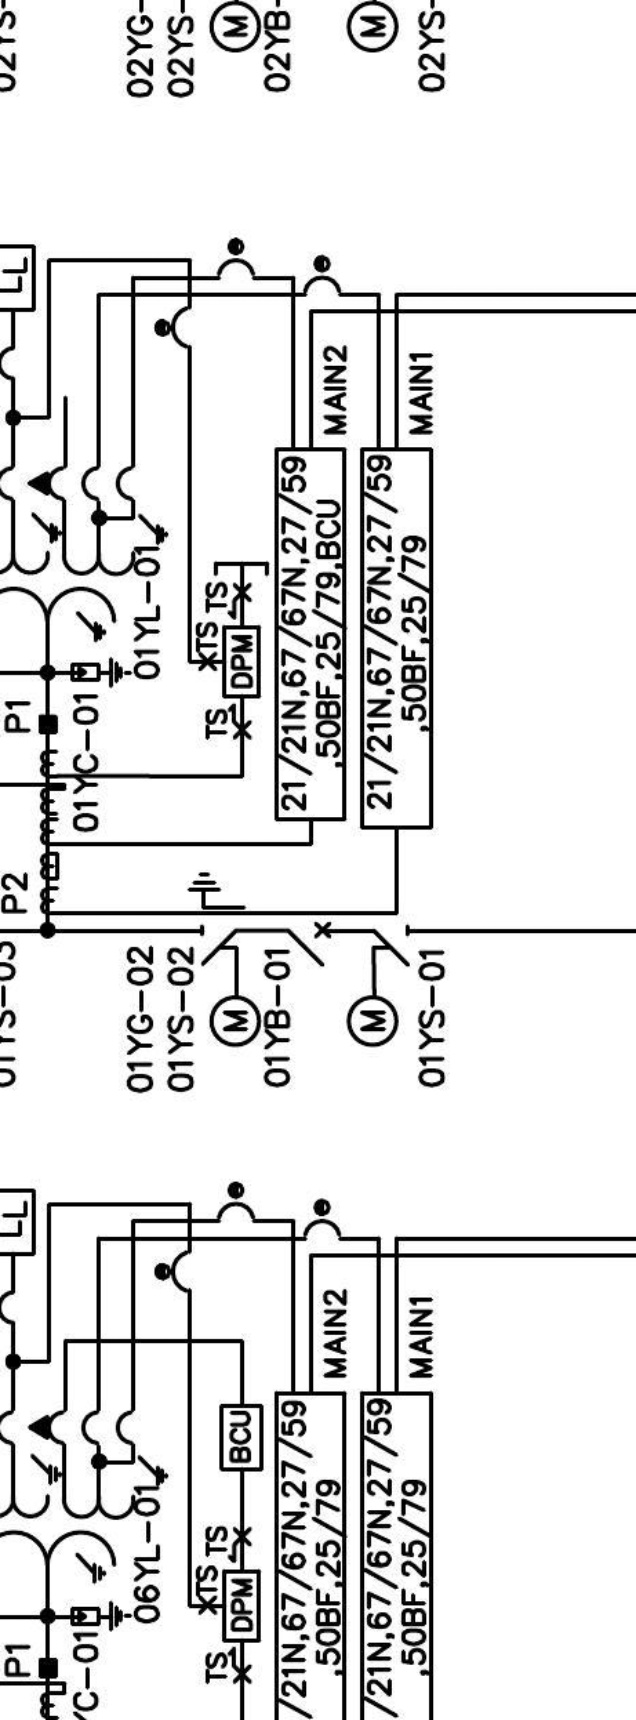115_1way_ds_w_motor: (345, 924, 410, 1049)
115_3ways_ds_w_motor: (186, 871, 262, 1049)
115_breaker: (286, 921, 331, 967)
115_la: (70, 656, 134, 689), (70, 1599, 133, 1632)
BCU: (218, 1403, 264, 1472)
DPM: (222, 1569, 262, 1643), (222, 625, 261, 700)
